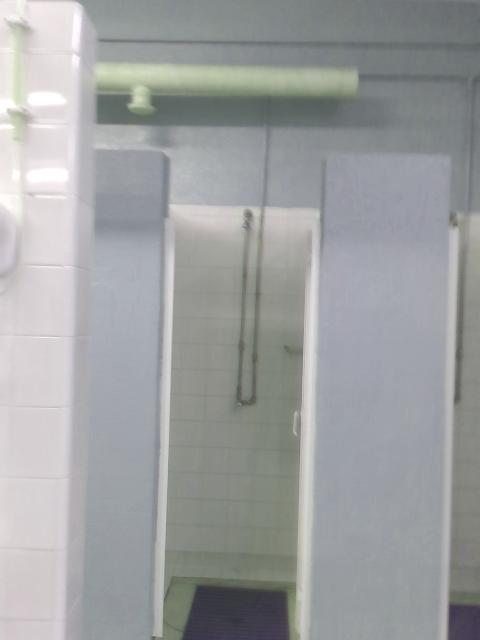open_door: (153, 147, 326, 638)
